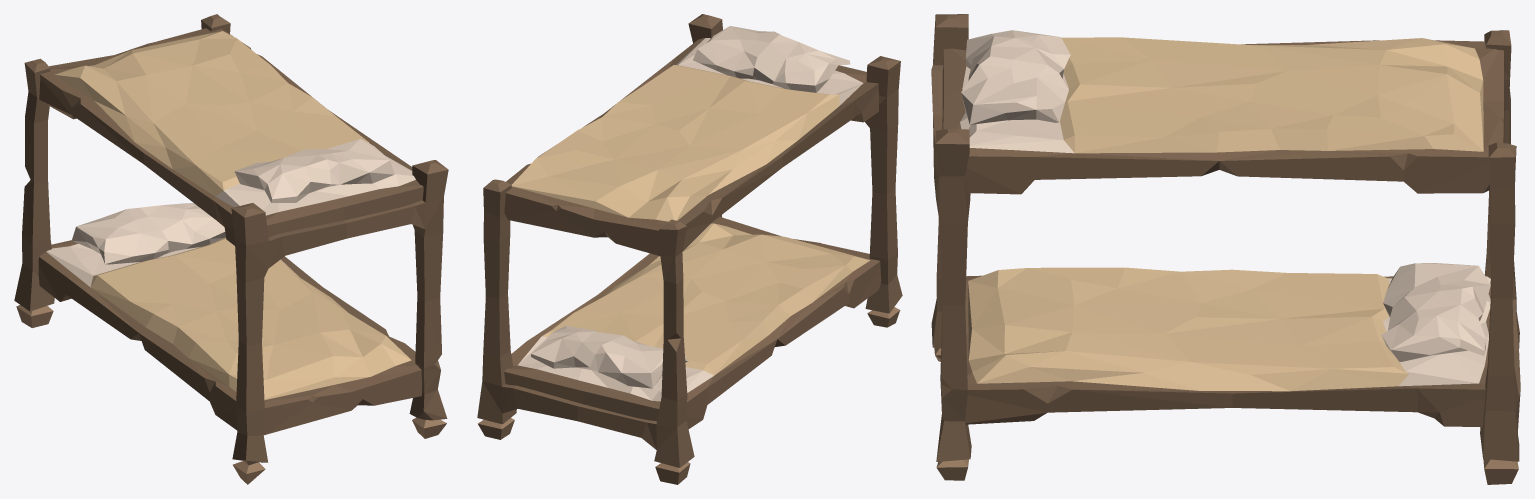
File: DoubleBed_White.fbx
3 views of the same model, side by side, from view 1: azimuth 30°, elevation 25°; view 2: azimuth 150°, elevation 25°; view 3: azimuth 270°, elevation 25° (orthographic). The views are drawn at different scales.
Visible parts, largest first — view 1: DoubleBed_White; view 2: DoubleBed_White; view 3: DoubleBed_White.
Part boxes in pixels (bbox=[...]): DoubleBed_White: bbox=[14, 14, 448, 484]; DoubleBed_White: bbox=[477, 14, 902, 484]; DoubleBed_White: bbox=[931, 14, 1520, 484].
Size of the model in its own units: 2.81 by 3.72 by 5.39.
